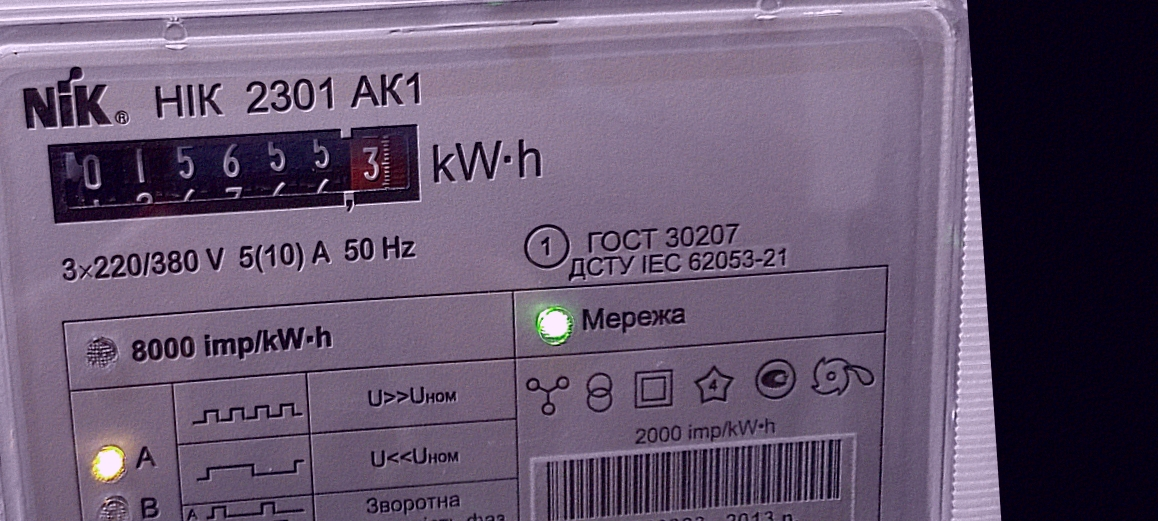0: (78, 151, 106, 193)
1: (130, 147, 151, 186)
3: (360, 145, 382, 182)
5: (172, 145, 198, 182), (265, 141, 290, 174), (312, 138, 332, 171)
6: (219, 143, 244, 180)
screen: (33, 105, 437, 241)
